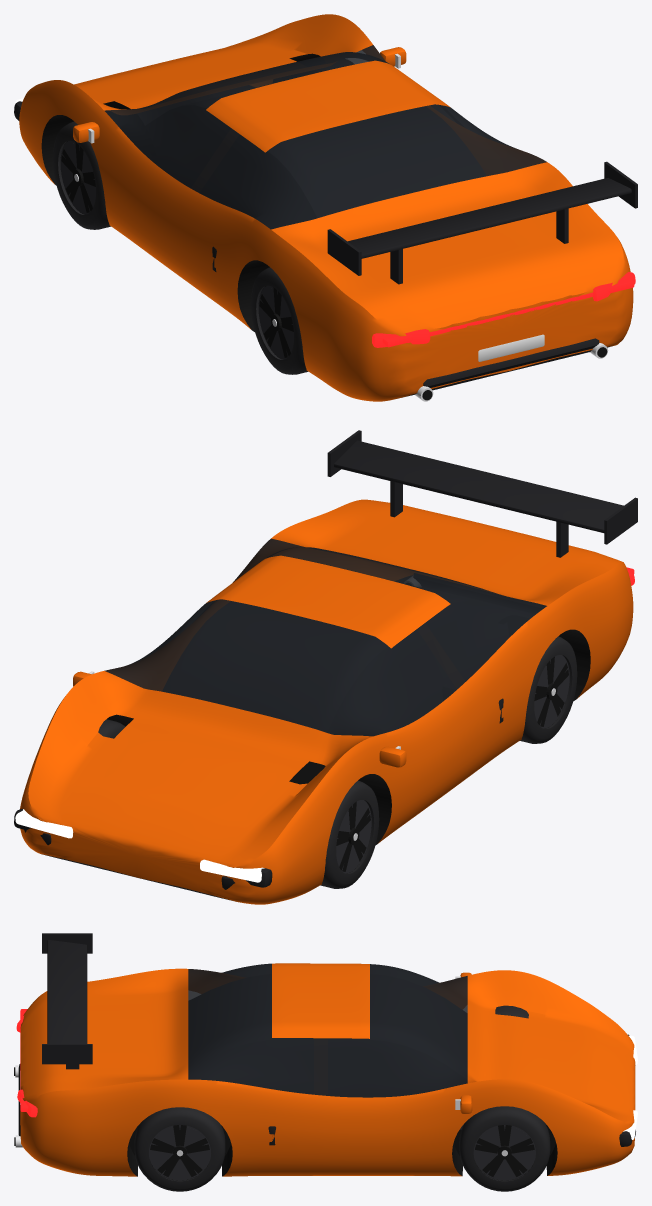
File: ktm_xbow_gtx.glb
The picture shows the model from 3 angles, top to bottom: view 1: azimuth 30°, elevation 25°; view 2: azimuth 150°, elevation 25°; view 3: azimuth 270°, elevation 25°; orthographic projection. The views are drawn at different scales.
Parts seen in each view (by area): view 1: Body, Wheel_RL, Wheel_FL; view 2: Body, Wheel_FL, Wheel_RL; view 3: Body, Wheel_FR, Wheel_RR.
Boxes of the visible parts, left/top/right/bottom form: Body: left=14, top=14, right=637, bottom=401; Wheel_RL: left=251, top=267, right=308, bottom=374; Wheel_FL: left=53, top=121, right=110, bottom=229; Body: left=14, top=430, right=637, bottom=904; Wheel_FL: left=320, top=780, right=379, bottom=888; Wheel_RL: left=520, top=636, right=577, bottom=743; Body: left=14, top=933, right=637, bottom=1176; Wheel_FR: left=459, top=1106, right=550, bottom=1191; Wheel_RR: left=134, top=1107, right=225, bottom=1191.
Bounding box in the file's own units: 2.33 × 1.23 × 4.67.
